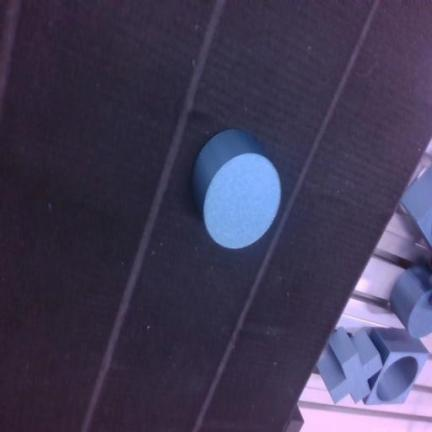cylinder: (192, 129, 280, 248)
